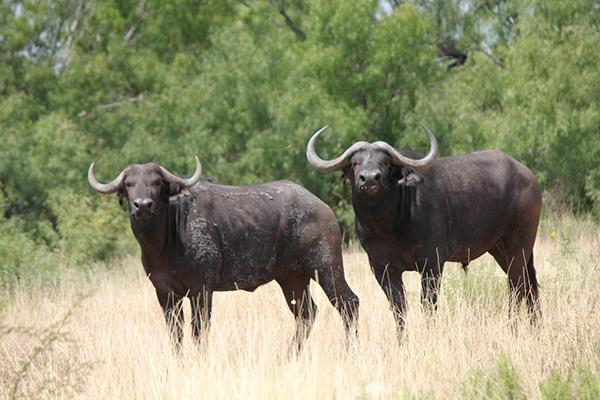Buffalo: (64, 74, 600, 342)
